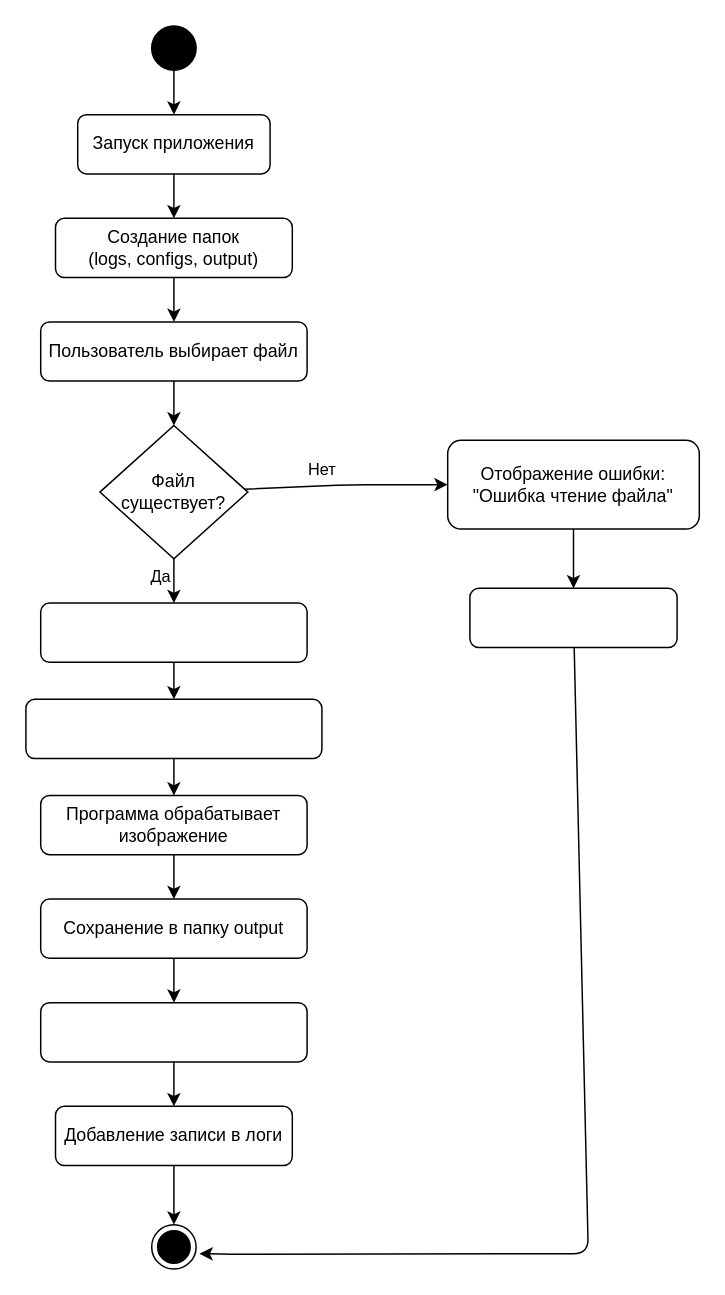
Image size: 725x1295. Some labels were removed from this diagram. The box of each missing label's shape, as (x1, y1, x2, y2) in pixels:
Добавляет запись в историю: (39, 1001, 307, 1062)
Отображение исходного изображения: (39, 602, 307, 662)
Отправка записи о ошибке в логи: (468, 587, 677, 648)
Пользователь выбирает операцию (Grayscale / Crop / Resize): (24, 698, 322, 758)
